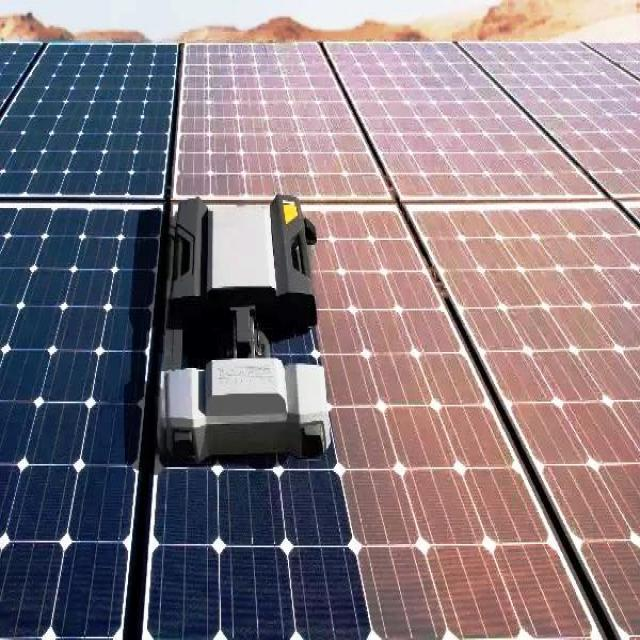faulty: (298, 204, 598, 638), (396, 196, 638, 638), (318, 39, 599, 191), (169, 37, 377, 196), (455, 28, 640, 199)
no faulty: (4, 208, 144, 640), (149, 464, 362, 640), (2, 37, 164, 197)
